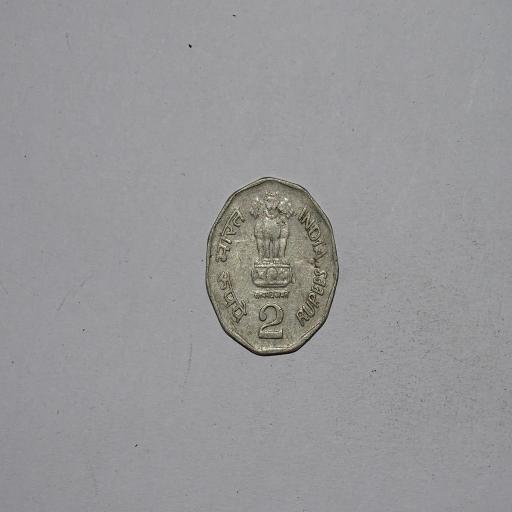rupee2: (203, 177, 339, 356)
